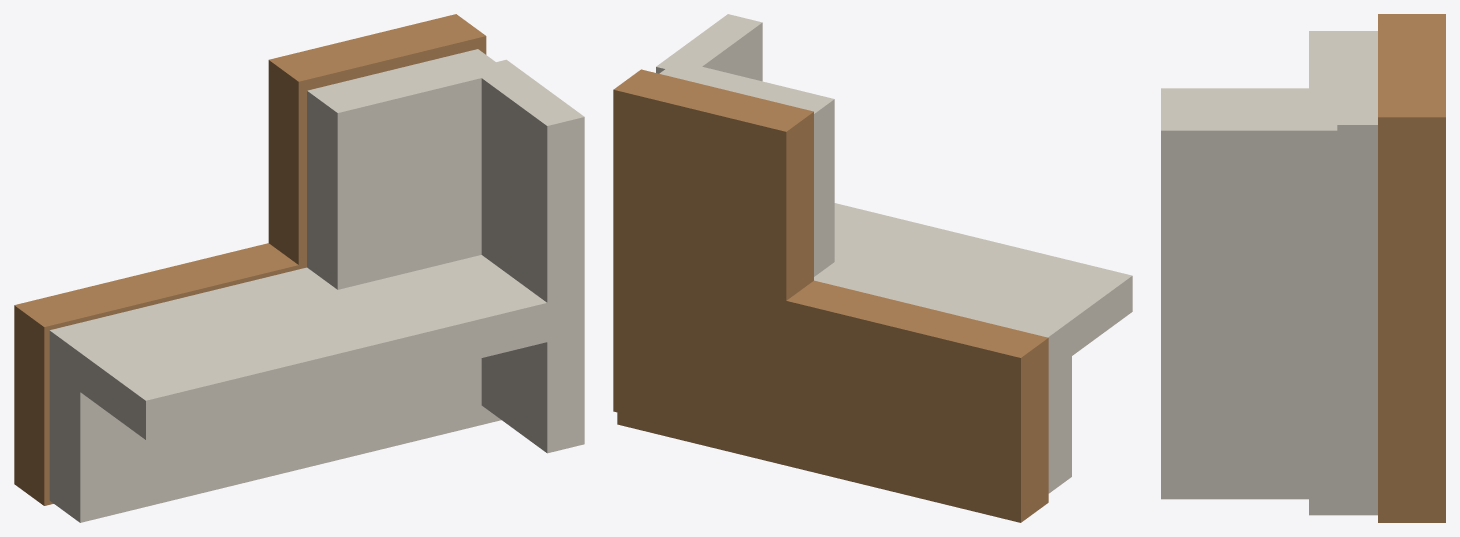
File: l-sofas.glb
3 views of the same model, side by side, from view 1: azimuth 30°, elevation 25°; view 2: azimuth 150°, elevation 25°; view 3: azimuth 270°, elevation 25° (orthographic). The views are drawn at different scales.
Visible parts, largest first — view 1: BackA, SeatB, SeatA, BackB, BaseA, BaseB; view 2: BaseA, BaseB, BackA, SeatA, SeatB, BackB; view 3: BackB, BaseB, SeatB, BackA, SeatA, BaseA.
Boxes of the visible parts, <box> form: BackA: <box>67,255,573,439</box>; SeatB: <box>307,49,508,439</box>; SeatA: <box>49,267,501,522</box>; BackB: <box>481,59,584,453</box>; BaseA: <box>14,243,306,505</box>; BaseB: <box>268,14,486,268</box>; BaseA: <box>617,260,1048,522</box>; BaseB: <box>613,69,813,453</box>; BackA: <box>823,203,1132,364</box>; SeatA: <box>814,267,1071,493</box>; SeatB: <box>659,60,834,276</box>; BackB: <box>656,14,762,81</box>; BackB: <box>1161,110,1337,499</box>; BaseB: <box>1378,14,1445,510</box>; SeatB: <box>1309,31,1377,493</box>; BackA: <box>1161,88,1308,109</box>; SeatA: <box>1309,493,1377,515</box>; BaseA: <box>1378,510,1445,522</box>.
Size of the model in its own units: 2.13 by 1.66 by 1.05.
